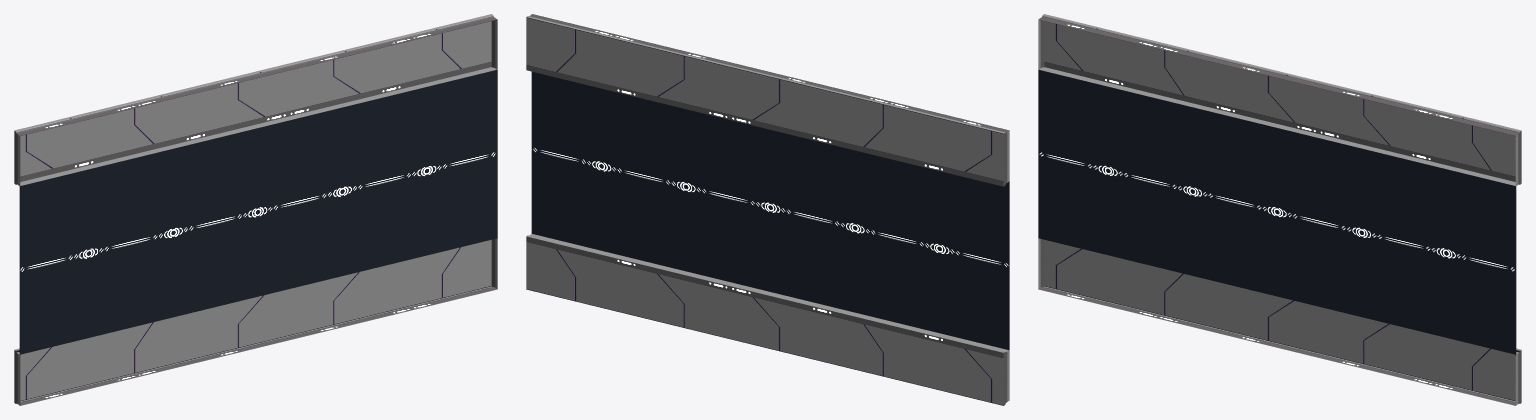
File: SM_S_Road2.fbx
The picture shows the model from 3 angles, left to right: view 1: azimuth 30°, elevation 25°; view 2: azimuth 150°, elevation 25°; view 3: azimuth 330°, elevation 25°; orthographic projection.
Visible parts, largest first — view 1: SM_S_Road2; view 2: SM_S_Road2; view 3: SM_S_Road2.
Part boxes in pixels (x1,y1,x2,y2): SM_S_Road2: (14,14,497,405); SM_S_Road2: (526,14,1009,405); SM_S_Road2: (1038,14,1521,405).
Size of the model in its own units: 5418 by 2953 by 119.
